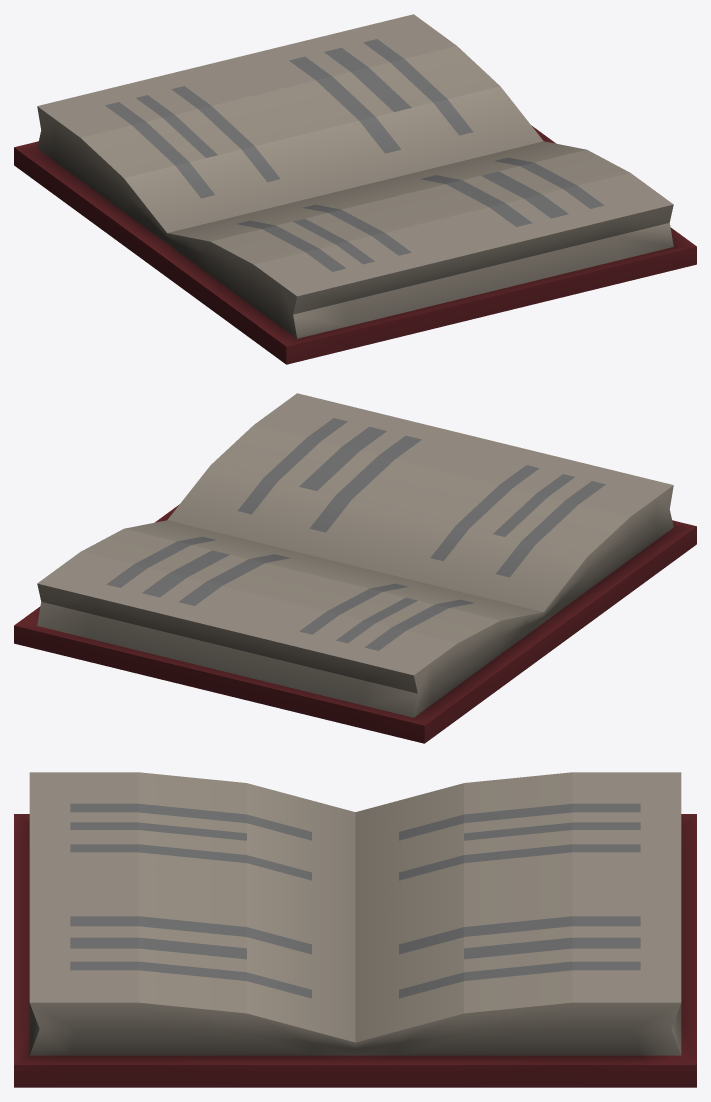
Rendered from pq_livre_ouvert.glb.
The picture shows the model from 3 angles, top to bottom: view 1: azimuth 30°, elevation 25°; view 2: azimuth 150°, elevation 25°; view 3: azimuth 270°, elevation 25°; orthographic projection. The views are drawn at different scales.
Visible parts, largest first — view 1: Book_Open; view 2: Book_Open; view 3: Book_Open.
Part boxes in pixels (x1,y1,x2,y2): Book_Open: (14, 14, 696, 364); Book_Open: (14, 393, 696, 743); Book_Open: (14, 772, 696, 1087).
Size of the model in its own units: 0.2388 by 0.0332 by 0.2744.
